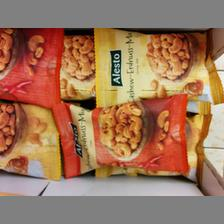Nuss: (48, 92, 188, 178), (92, 26, 224, 106), (0, 27, 64, 111), (0, 100, 62, 180)
